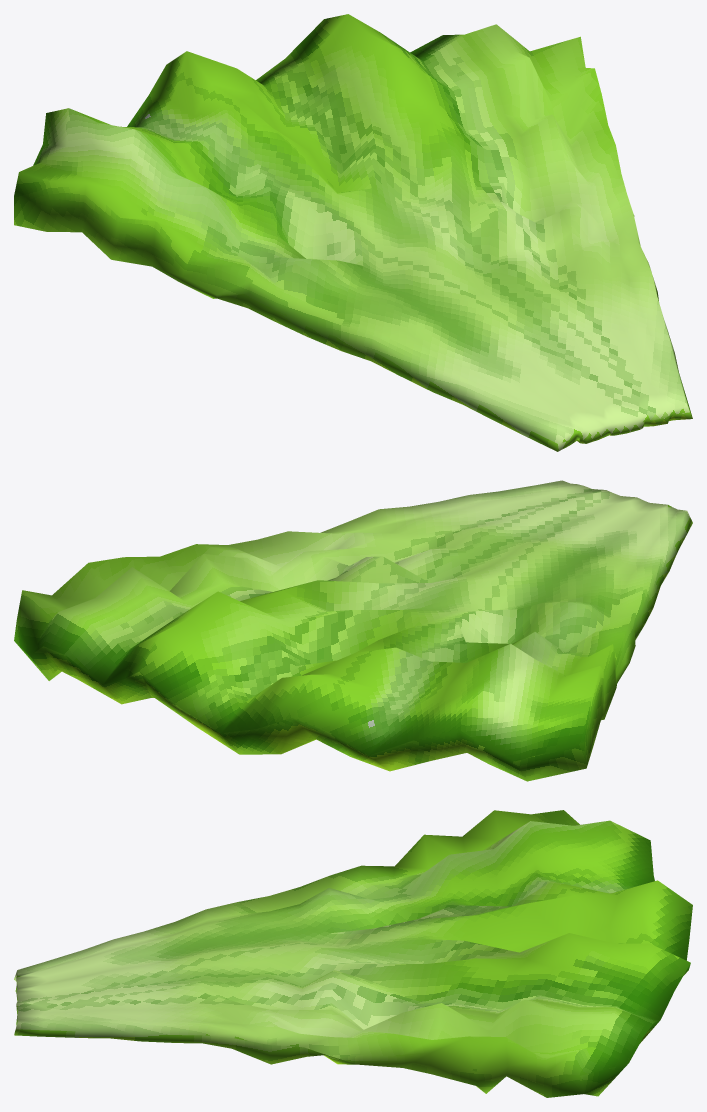
The model's file is Topz-lettuce.glb.
The picture shows the model from 3 angles, top to bottom: view 1: azimuth 30°, elevation 25°; view 2: azimuth 150°, elevation 25°; view 3: azimuth 270°, elevation 25°; orthographic projection. The views are drawn at different scales.
Visible parts, largest first — view 1: Plane; view 2: Plane; view 3: Plane.
Part boxes in pixels (<box>): Plane: <box>14,14,692,451</box>; Plane: <box>14,480,692,781</box>; Plane: <box>14,810,692,1097</box>.
Size of what is drawn, in the model's own units: 1.94 by 0.4317 by 2.34.
1 material, 1 textured.
